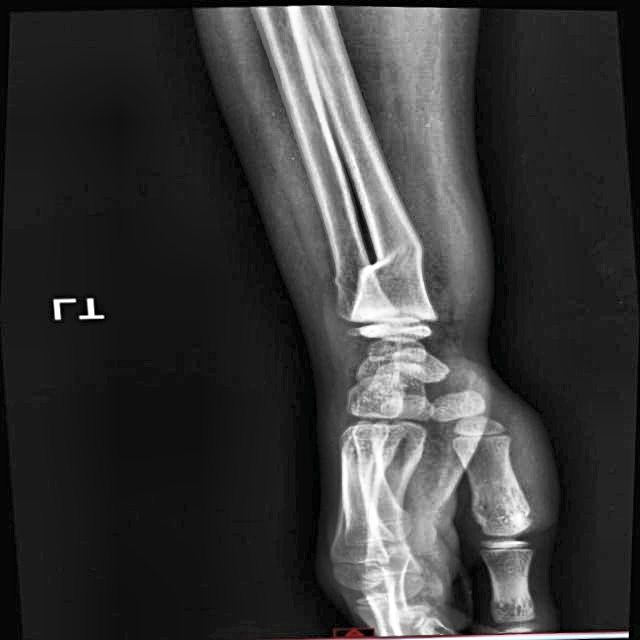Greenstick: (350, 237, 414, 289)
